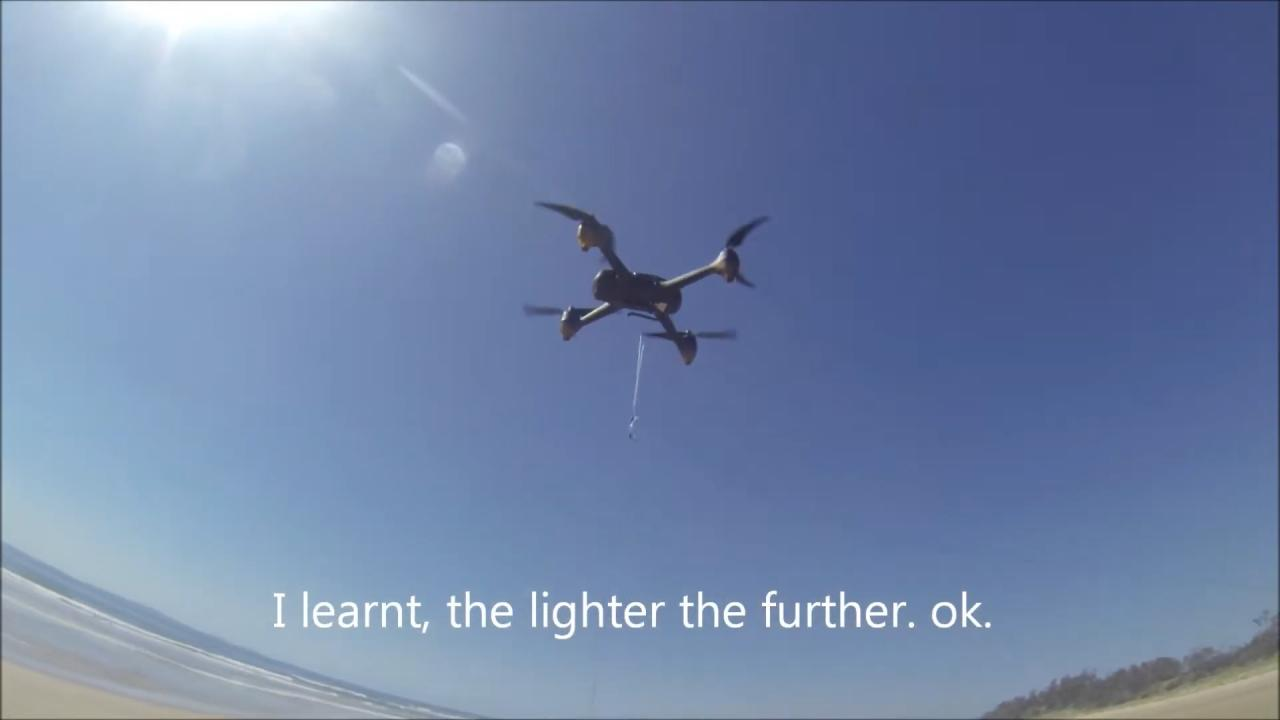Drone: (503, 190, 787, 376)
